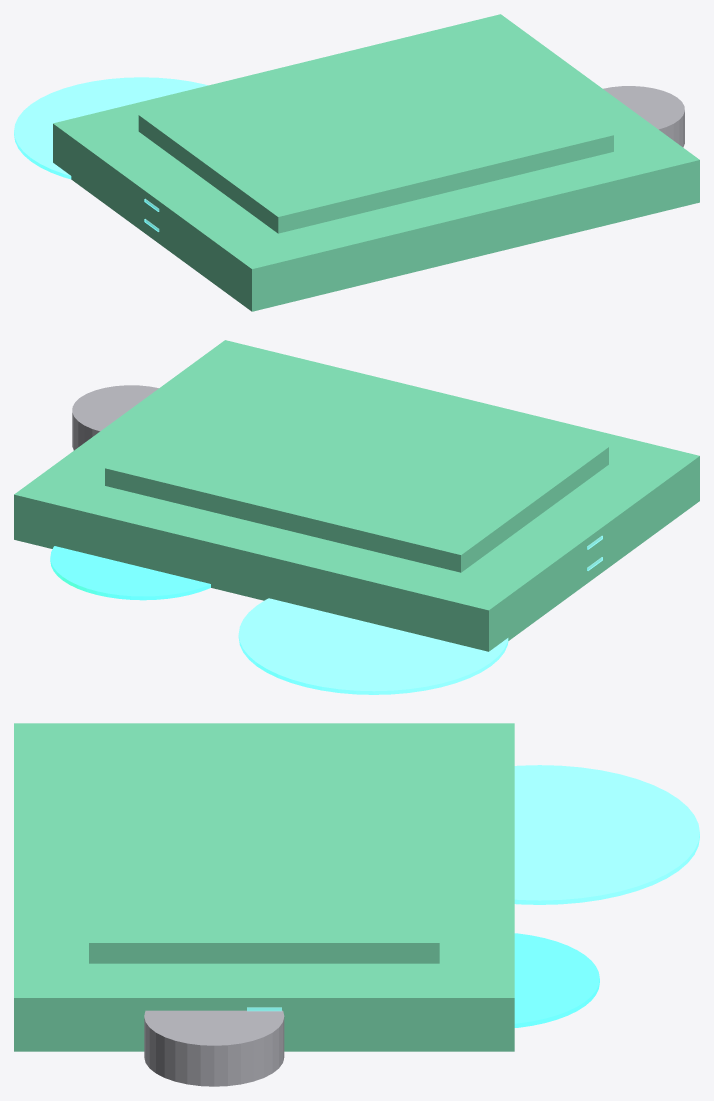
File: gaia_synthesis_bio_energy_center.glb
The picture shows the model from 3 angles, top to bottom: view 1: azimuth 30°, elevation 25°; view 2: azimuth 150°, elevation 25°; view 3: azimuth 270°, elevation 25°; orthographic projection. The views are drawn at different scales.
Parts seen in each view (by area): view 1: gaia_synthesis_bio_energy_center; view 2: gaia_synthesis_bio_energy_center; view 3: gaia_synthesis_bio_energy_center.
Part boxes in pixels (bbox=[...]): gaia_synthesis_bio_energy_center: bbox=[14, 14, 699, 311]; gaia_synthesis_bio_energy_center: bbox=[14, 340, 699, 694]; gaia_synthesis_bio_energy_center: bbox=[14, 723, 699, 1086].
Size of the model in its own units: 91.42 by 10 by 83.57.
